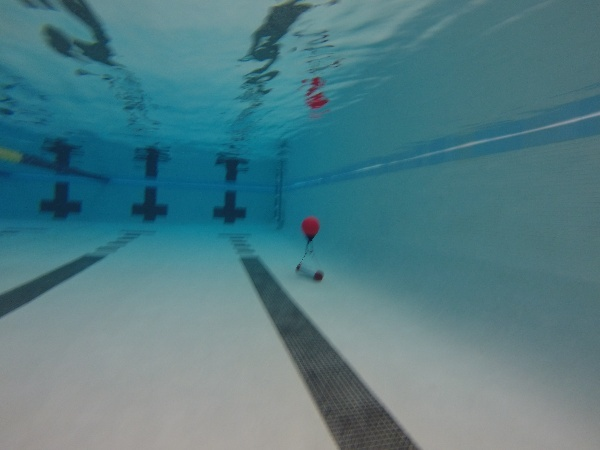buoy_red: (299, 215, 321, 242)
